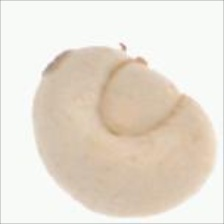L5: (92, 56, 189, 139)
L6: (29, 44, 219, 218)
